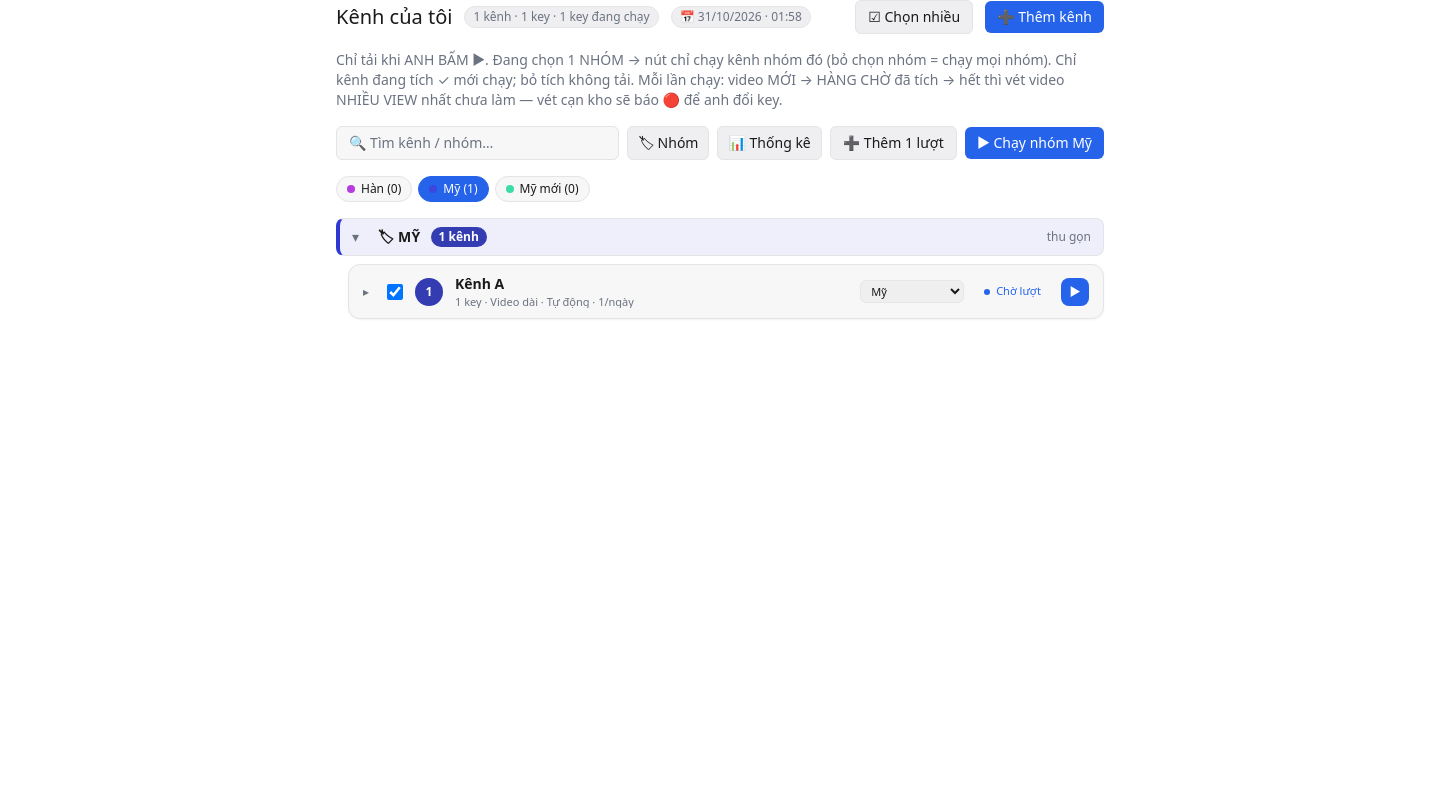
Scenario: LỖI 3 — thêm TRÙNG link phải BÁO, và KHÔNG ghi đè gì › trùng nhưng KHÁC hoa/thường + có dấu / cuối → vẫn chặn
The image size is (1440, 810).
Expected: the dropdown is shown, [860,280,964,303]
Click the button "➕ Thêm kênh".
click(1045, 17)  # box [985,1,1104,33]
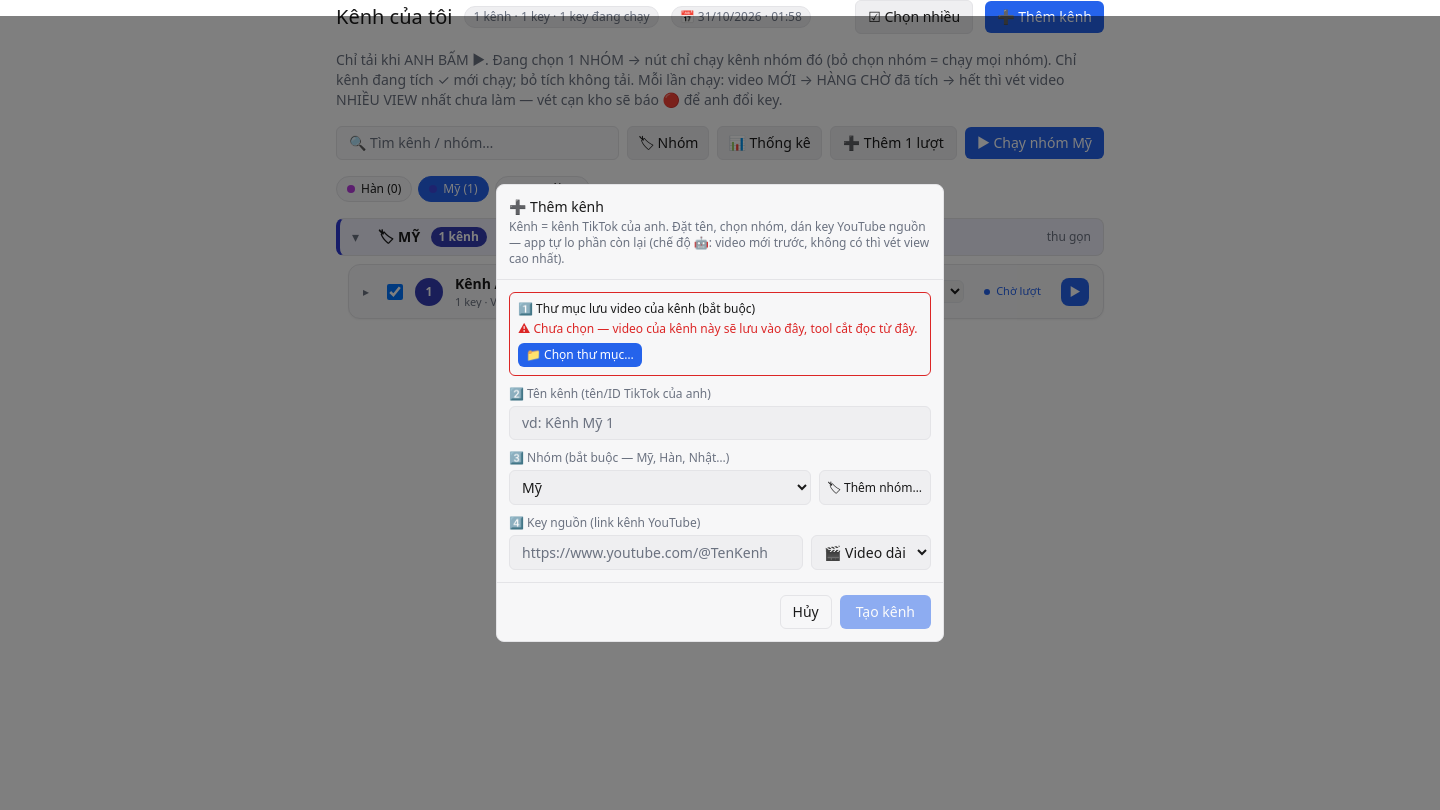
Expected: the 1st dropdown is shown, [509,470,810,505]
Type "Kênh Mới" into the field with placeholder "vd: Kênh Mỹ 1".
click(720, 423); type("Kênh Mới")  # box [509,406,931,440]
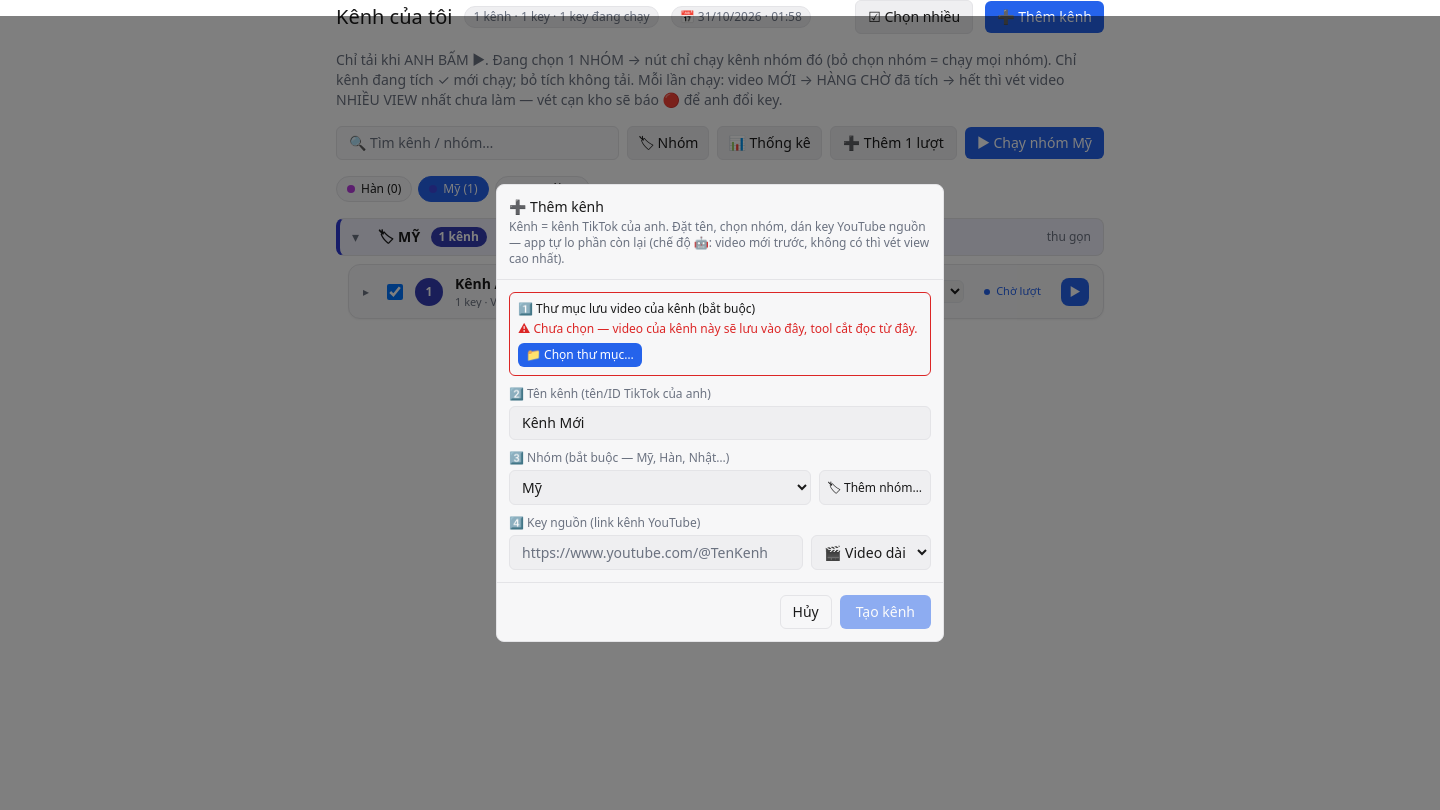
Type "https://YouTube.com/@Trung/" into the field with placeholder "https://www.youtube.com/@TenKenh".
click(656, 552); type("https://YouTube.com/@Trung/")  # box [509,535,803,570]
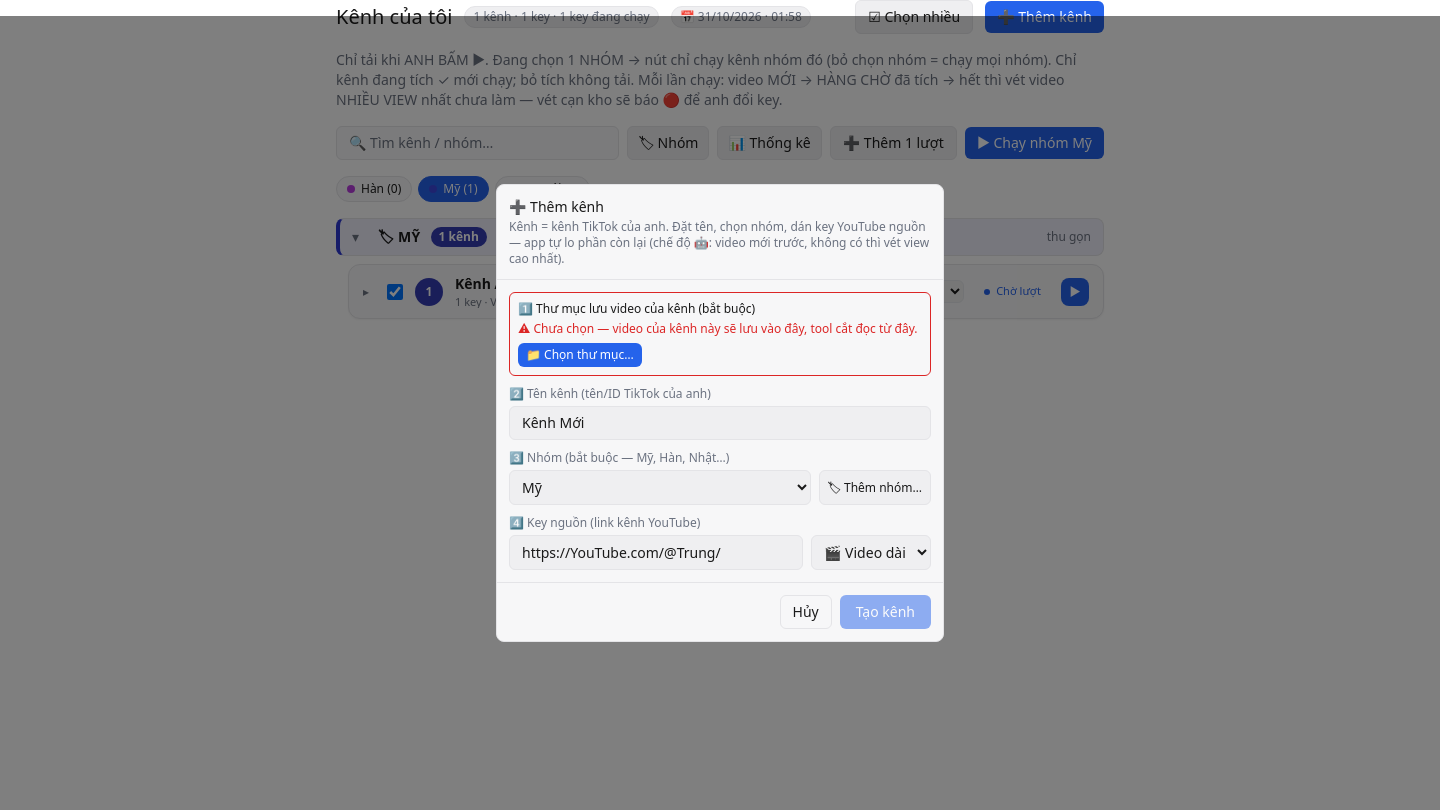
Click the button "📁 Chọn thư mục…".
click(580, 355)  # box [518,343,642,367]
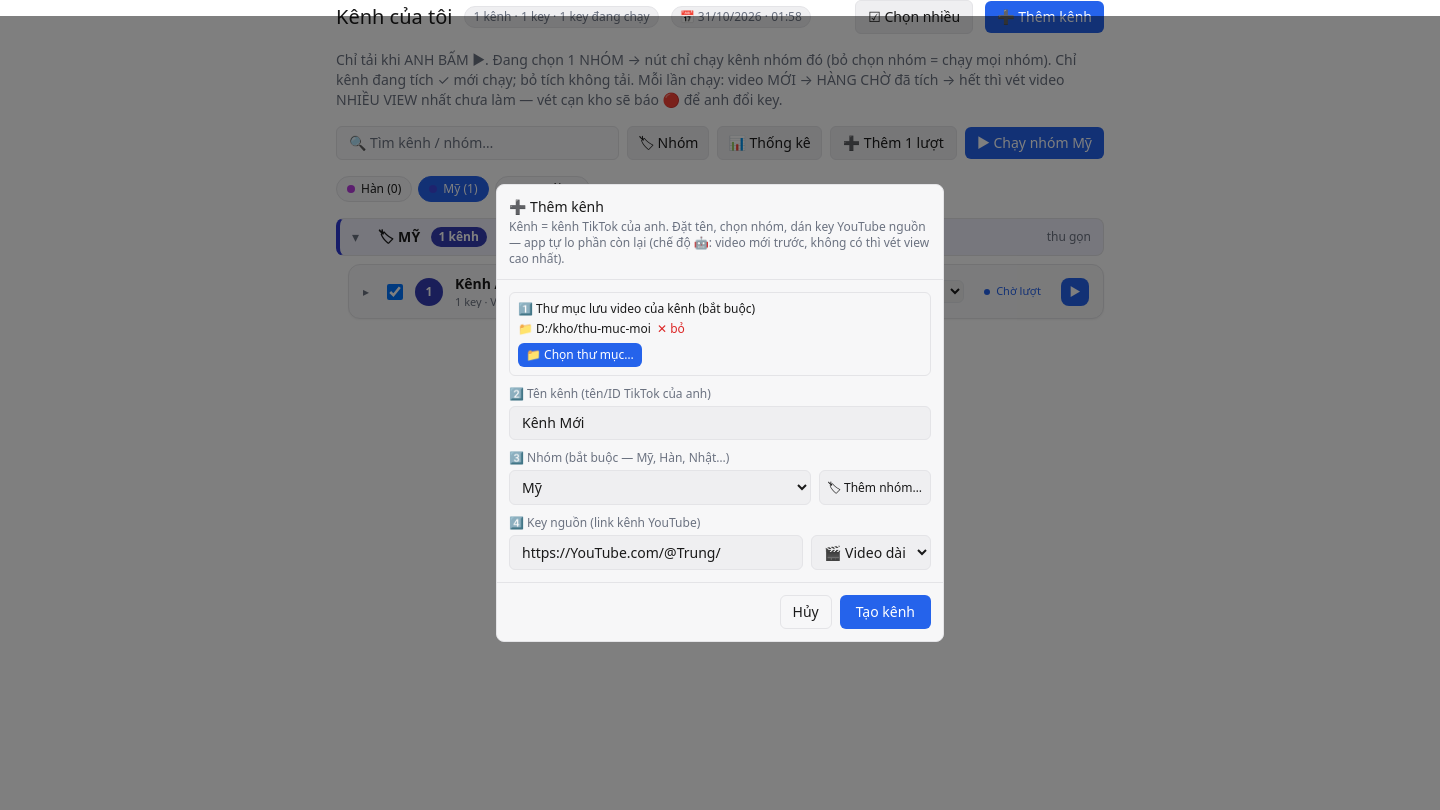
Expected: the text "📁 D:/kho/thu-muc-moi ✕ bỏ" is shown, [518,320,685,337]
Expected: the button "Tạo kênh" is enabled
Click the button "Tạo kênh".
click(885, 612)  # box [840,595,931,629]
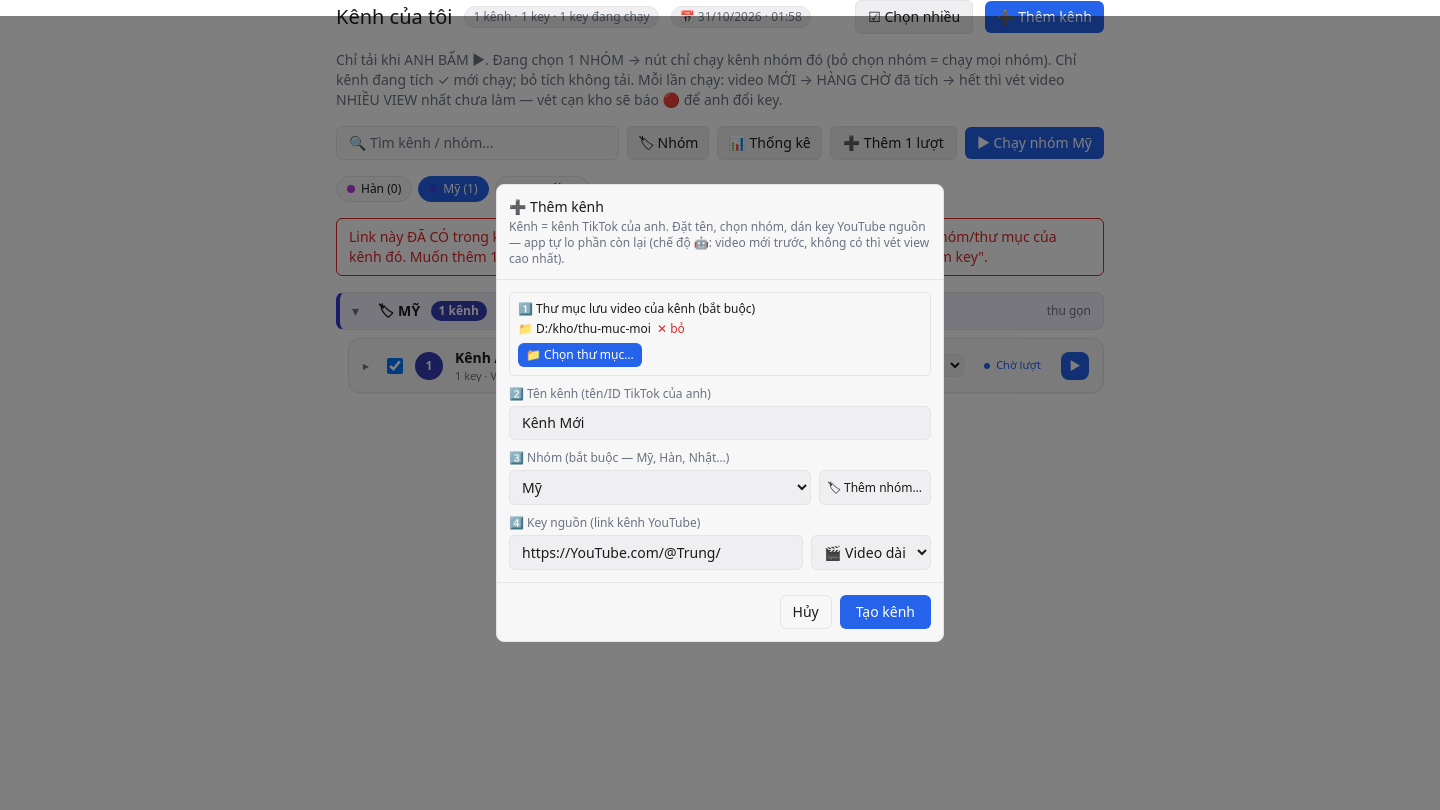
Expected: the text "ĐÃ CÓ trong kênh" is shown, [349,227,1057,266]
